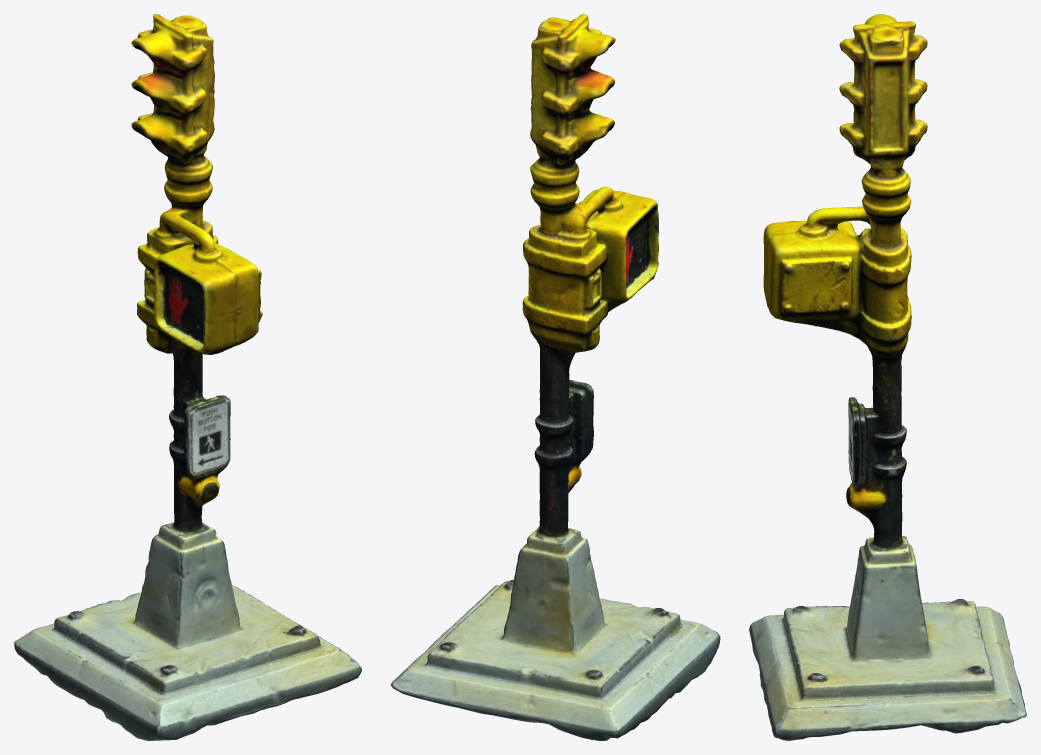
Rendered from traffic-light.glb.
3 renders of one model, left to right at view 1: azimuth 30°, elevation 25°; view 2: azimuth 150°, elevation 25°; view 3: azimuth 270°, elevation 25°, orthographic.
Parts seen in each view (by area): view 1: g0; view 2: g0; view 3: g0.
Boxes of the visible parts, left/top/right/bottom form: g0: left=14, top=14, right=361, bottom=740; g0: left=390, top=14, right=720, bottom=740; g0: left=749, top=14, right=1026, bottom=740.
Bounding box in the file's own units: 1.41 × 3.74 × 1.42.
1 material, 1 textured.
